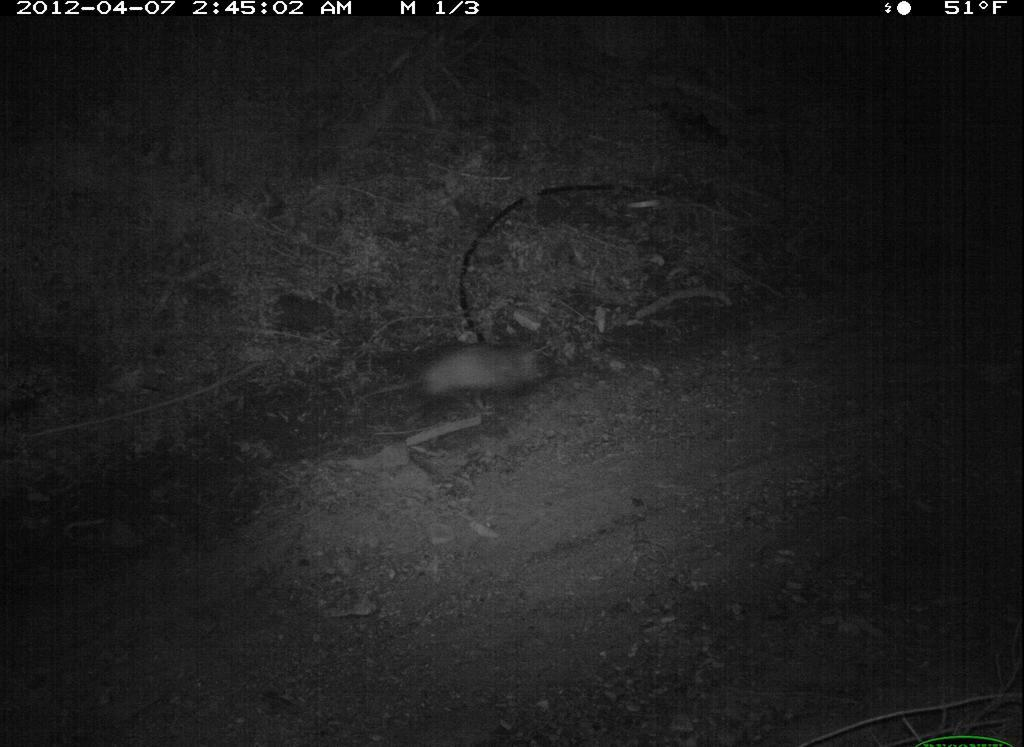opossum: (357, 334, 558, 412)
